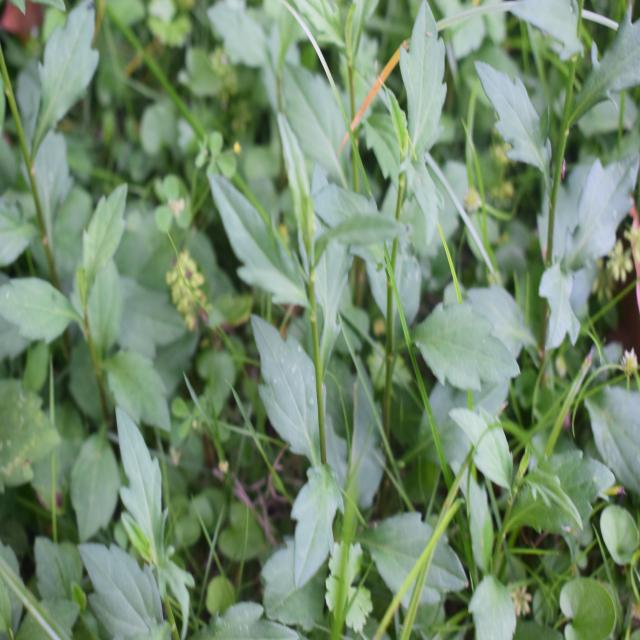Indian aster: (215, 120, 372, 564), (352, 21, 502, 420)
